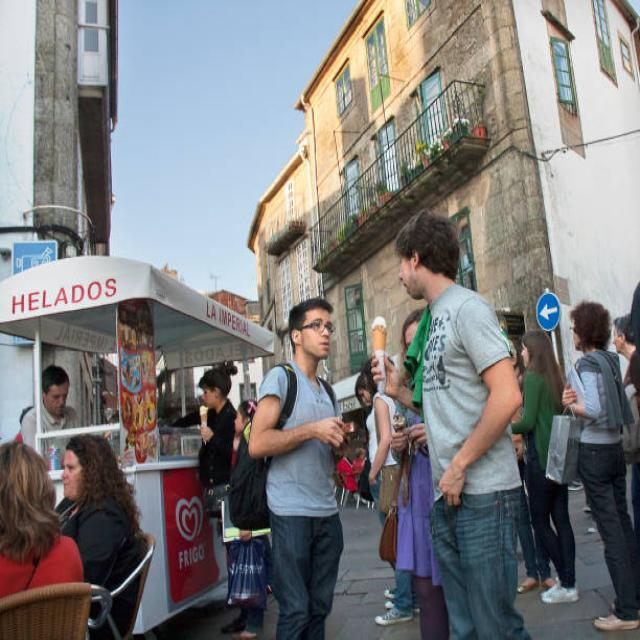Emperan: (0, 248, 284, 640)
